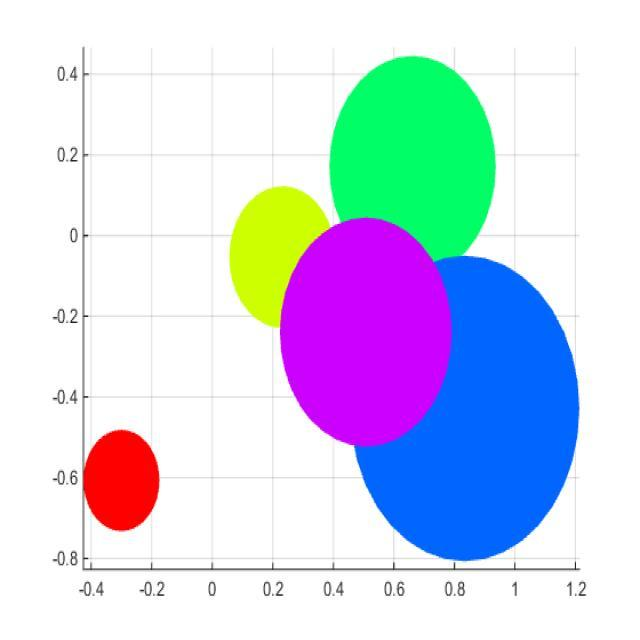Circle: (276, 210, 454, 448), (82, 426, 163, 536)
